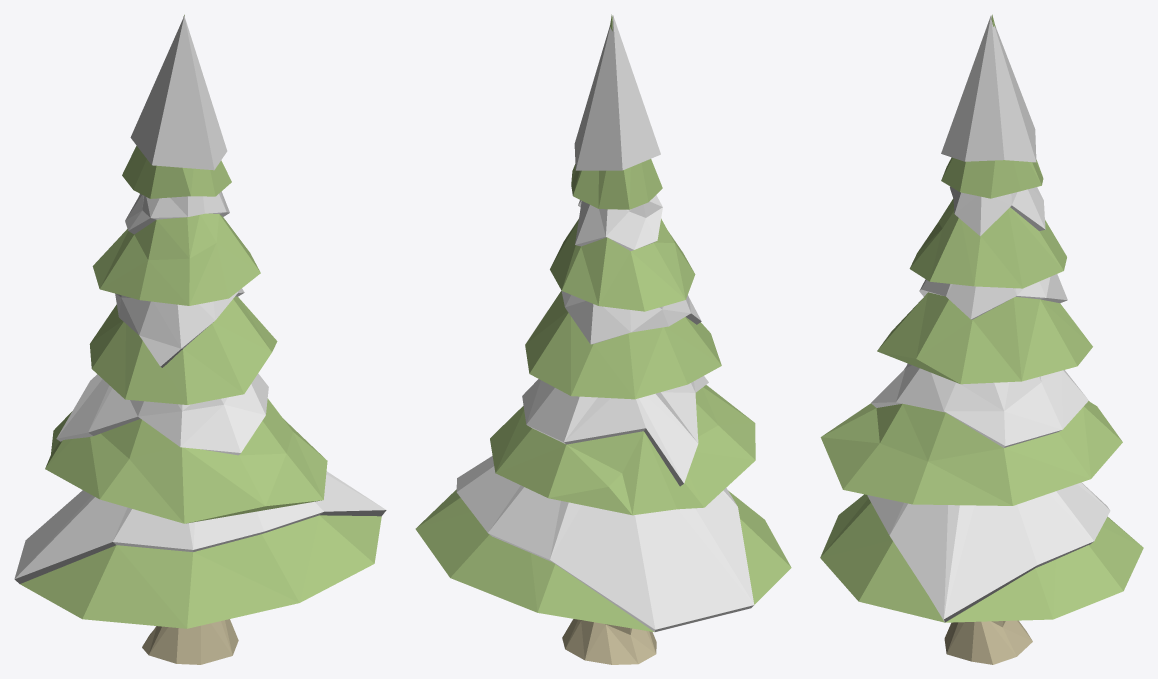
The model's file is LowPoly - FirTree B_snow.FBX.
The picture shows the model from 3 angles, left to right: view 1: azimuth 30°, elevation 25°; view 2: azimuth 150°, elevation 25°; view 3: azimuth 270°, elevation 25°; orthographic projection.
Parts seen in each view (by area): view 1: LowPolyFirTree_02; view 2: LowPolyFirTree_02; view 3: LowPolyFirTree_02.
Boxes of the visible parts, bbox=[...] form: LowPolyFirTree_02: bbox=[14, 14, 386, 664]; LowPolyFirTree_02: bbox=[415, 14, 791, 664]; LowPolyFirTree_02: bbox=[820, 14, 1143, 664].
Size of the model in its own units: 375 by 679 by 317.
